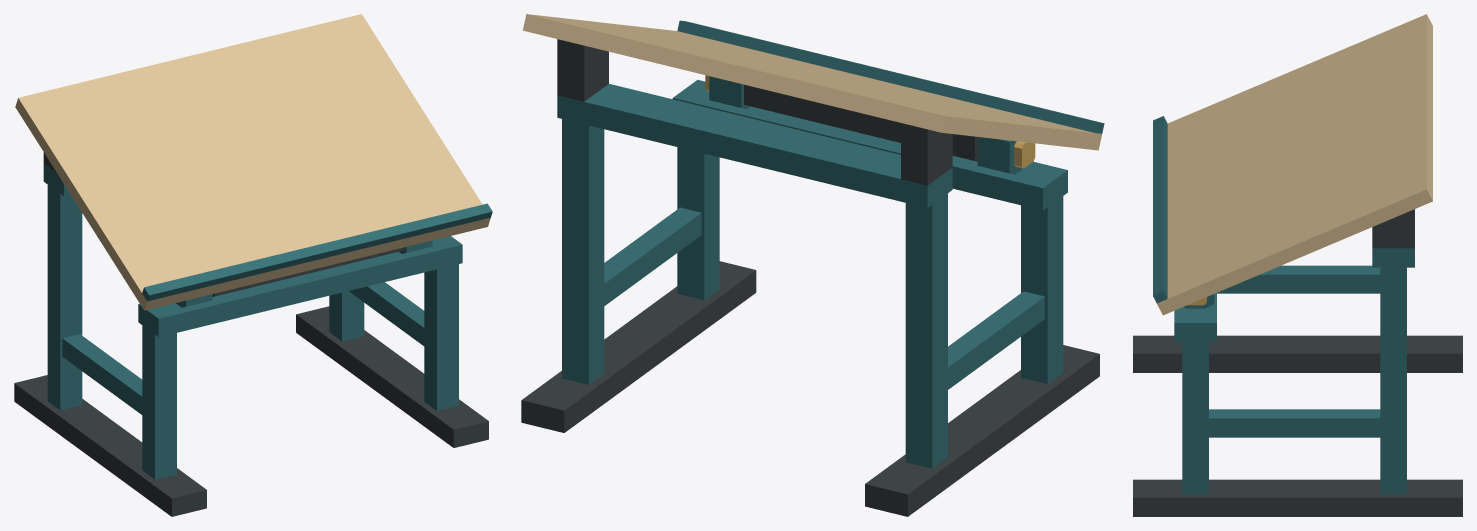
3 renders of one model, left to right at view 1: azimuth 30°, elevation 25°; view 2: azimuth 150°, elevation 25°; view 3: azimuth 270°, elevation 25°, orthographic. The views are drawn at different scales.
Visible parts, largest first — view 1: Wide_EmptyDrawingBoard, Front_ContinuousCrossBeam, Side_1_GroundRunner, Side_0_GroundRunner, Side_0_RearUpright, Continuous_ThickFrontRetainingStrip, Side_0_FrontUpright, Side_1_FrontUpright, Side_0_OpenFrameTie, Side_1_OpenFrameTie, Side_1_RearUpright, Central_BoardBoredEar; view 2: Wide_EmptyDrawingBoard, Rear_ContinuousCrossBeam, Side_1_GroundRunner, Side_0_GroundRunner, Side_0_RearUpright, Side_1_RearUpright, Front_ContinuousCrossBeam, Side_0_FrontUpright, Side_1_FrontUpright, Continuous_ThickFrontRetainingStrip, Side_1_OpenFrameTie, Side_0_OpenFrameTie (+5 smaller); view 3: Wide_EmptyDrawingBoard, Side_1_GroundRunner, Side_0_GroundRunner, Side_1_RearUpright, Side_1_OpenFrameTie, Side_1_FrontUpright, Side_0_OpenFrameTie, Continuous_ThickFrontRetainingStrip, Front_ContinuousCrossBeam, Side_1_FixedRearInclinedBearing, Rear_ContinuousCrossBeam.
Part boxes in pixels (x1,y1,x2,y2): Wide_EmptyDrawingBoard: (15, 14, 490, 310); Front_ContinuousCrossBeam: (138, 236, 462, 336); Side_1_GroundRunner: (296, 306, 488, 447); Side_0_GroundRunner: (14, 375, 206, 516); Side_0_RearUpright: (47, 185, 82, 410); Continuous_ThickFrontRetainingStrip: (142, 203, 492, 301); Side_0_FrontUpright: (142, 325, 176, 479); Side_1_FrontUpright: (424, 264, 458, 410); Side_0_OpenFrameTie: (62, 334, 142, 414); Side_1_OpenFrameTie: (349, 282, 424, 345); Side_1_RearUpright: (329, 291, 364, 341); Central_BoardBoredEar: (212, 247, 404, 296); Wide_EmptyDrawingBoard: (523, 14, 1101, 150); Rear_ContinuousCrossBeam: (557, 84, 952, 207); Side_1_GroundRunner: (521, 261, 756, 432); Side_0_GroundRunner: (865, 345, 1099, 516); Side_0_RearUpright: (905, 193, 947, 468); Side_1_RearUpright: (562, 119, 604, 384); Front_ContinuousCrossBeam: (672, 79, 1067, 210); Side_0_FrontUpright: (1021, 196, 1063, 384); Side_1_FrontUpright: (677, 147, 719, 300); Continuous_ThickFrontRetainingStrip: (677, 20, 1104, 133); Side_1_OpenFrameTie: (604, 207, 701, 305); Side_0_OpenFrameTie: (948, 291, 1044, 389); Wide_EmptyDrawingBoard: (1157, 14, 1432, 315); Side_1_GroundRunner: (1133, 479, 1462, 516); Side_0_GroundRunner: (1133, 335, 1462, 372); Side_1_RearUpright: (1380, 267, 1406, 494); Side_1_OpenFrameTie: (1209, 409, 1380, 437); Side_1_FrontUpright: (1182, 342, 1208, 494); Side_0_OpenFrameTie: (1217, 265, 1380, 293); Continuous_ThickFrontRetainingStrip: (1153, 116, 1167, 303); Front_ContinuousCrossBeam: (1174, 293, 1216, 342); Side_1_FixedRearInclinedBearing: (1372, 209, 1414, 248); Rear_ContinuousCrossBeam: (1372, 248, 1414, 267).
Bounding box in the file's own units: 1.56 × 1.39 × 1.24.
